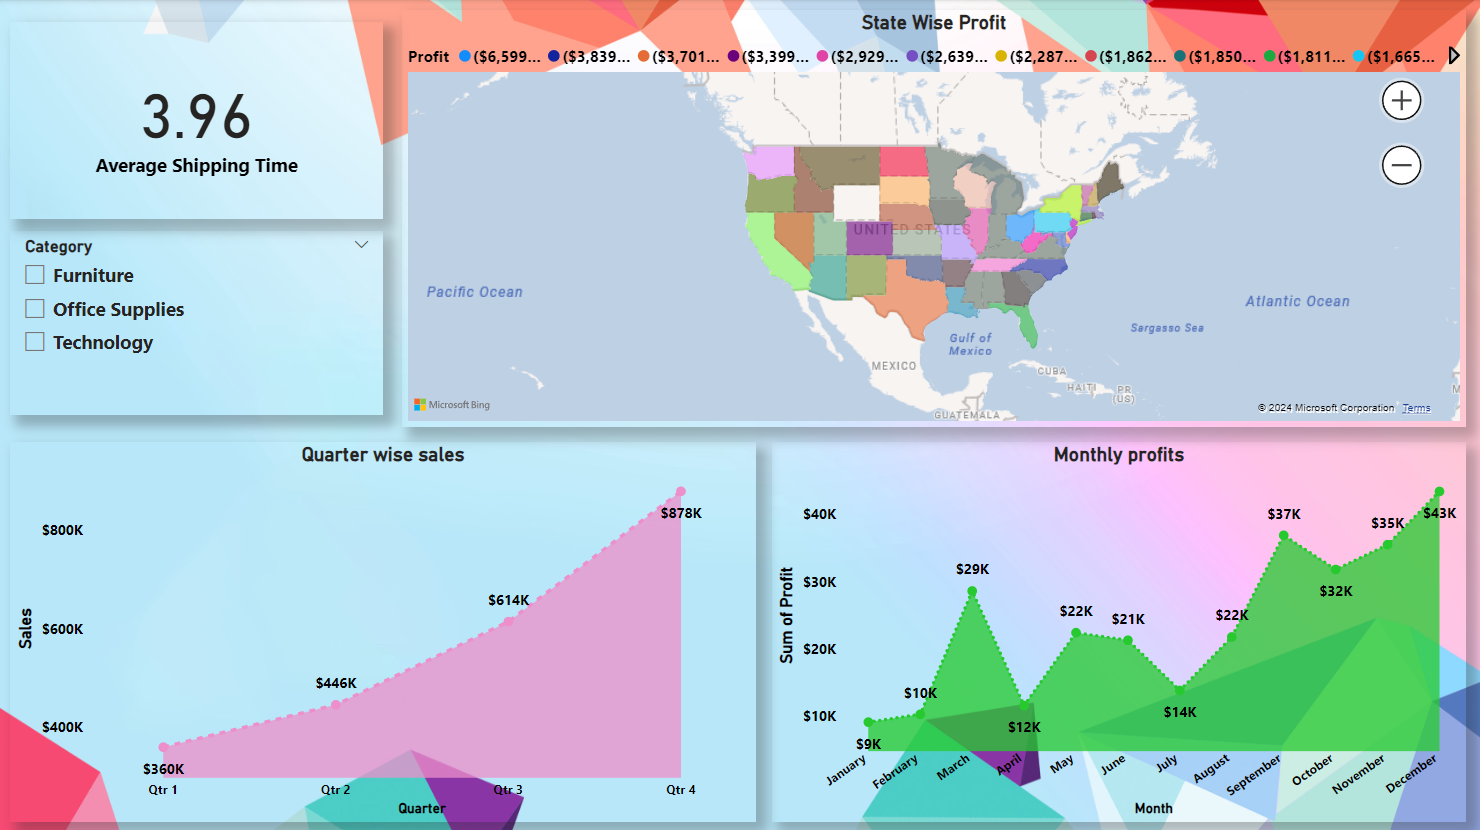

The page's visual inventory and layout, read from the dashboard file:
{"tool":"powerbi","page":{"name":"Analysis page 2","canvas":[1280,720],"ordinal":1},"visuals":[{"type":"lineChart","title":"Monthly profits","fields":{"Category":["Orders.Order Date.Variation.Date Hierarchy.Month"],"Y":["Sum(Orders.Profit)"]},"box":[667.5,382.8,600,327.6],"z":2000},{"type":"areaChart","title":"Quarter wise sales","fields":{"Category":["Orders.Order Date.Variation.Date Hierarchy.Quarter"],"Y":["Sum(Orders.Sales)"]},"box":[9.8,382.8,644.2,327.6],"z":3000},{"type":"slicer","fields":{"Values":["Orders.Category"]},"box":[9.6,200.3,322.5,159.2],"z":5000},{"type":"filledMap","title":"State Wise Profit","fields":{"Category":["Orders.State"],"Series":["Orders.Profit"]},"box":[348.6,10,918.6,360],"z":5001},{"type":"card","fields":{"Values":["Orders.Average Shipping Time"]},"box":[9.8,9.8,322.7,160.7],"z":5002}]}

Visuals, with their boxes in screenshot pixels (x1, y1, x2, y2), scaled from the page's 1280x720 canvas onto the 1480x830 screenshot:
"Monthly profits" lineChart: [left=772, top=441, right=1466, bottom=819]
"Quarter wise sales" areaChart: [left=11, top=441, right=756, bottom=819]
slicer - Orders.Category: [left=11, top=231, right=384, bottom=414]
"State Wise Profit" filledMap: [left=403, top=12, right=1465, bottom=427]
card - Orders.Average Shipping Time: [left=11, top=11, right=384, bottom=197]
